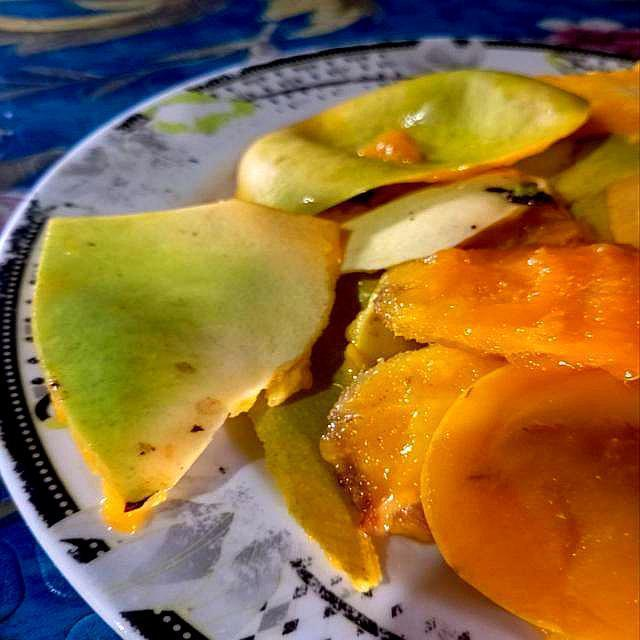Biodegradable: (43, 57, 640, 625)
